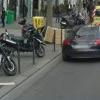Motorcycle: (2, 21, 53, 69)
